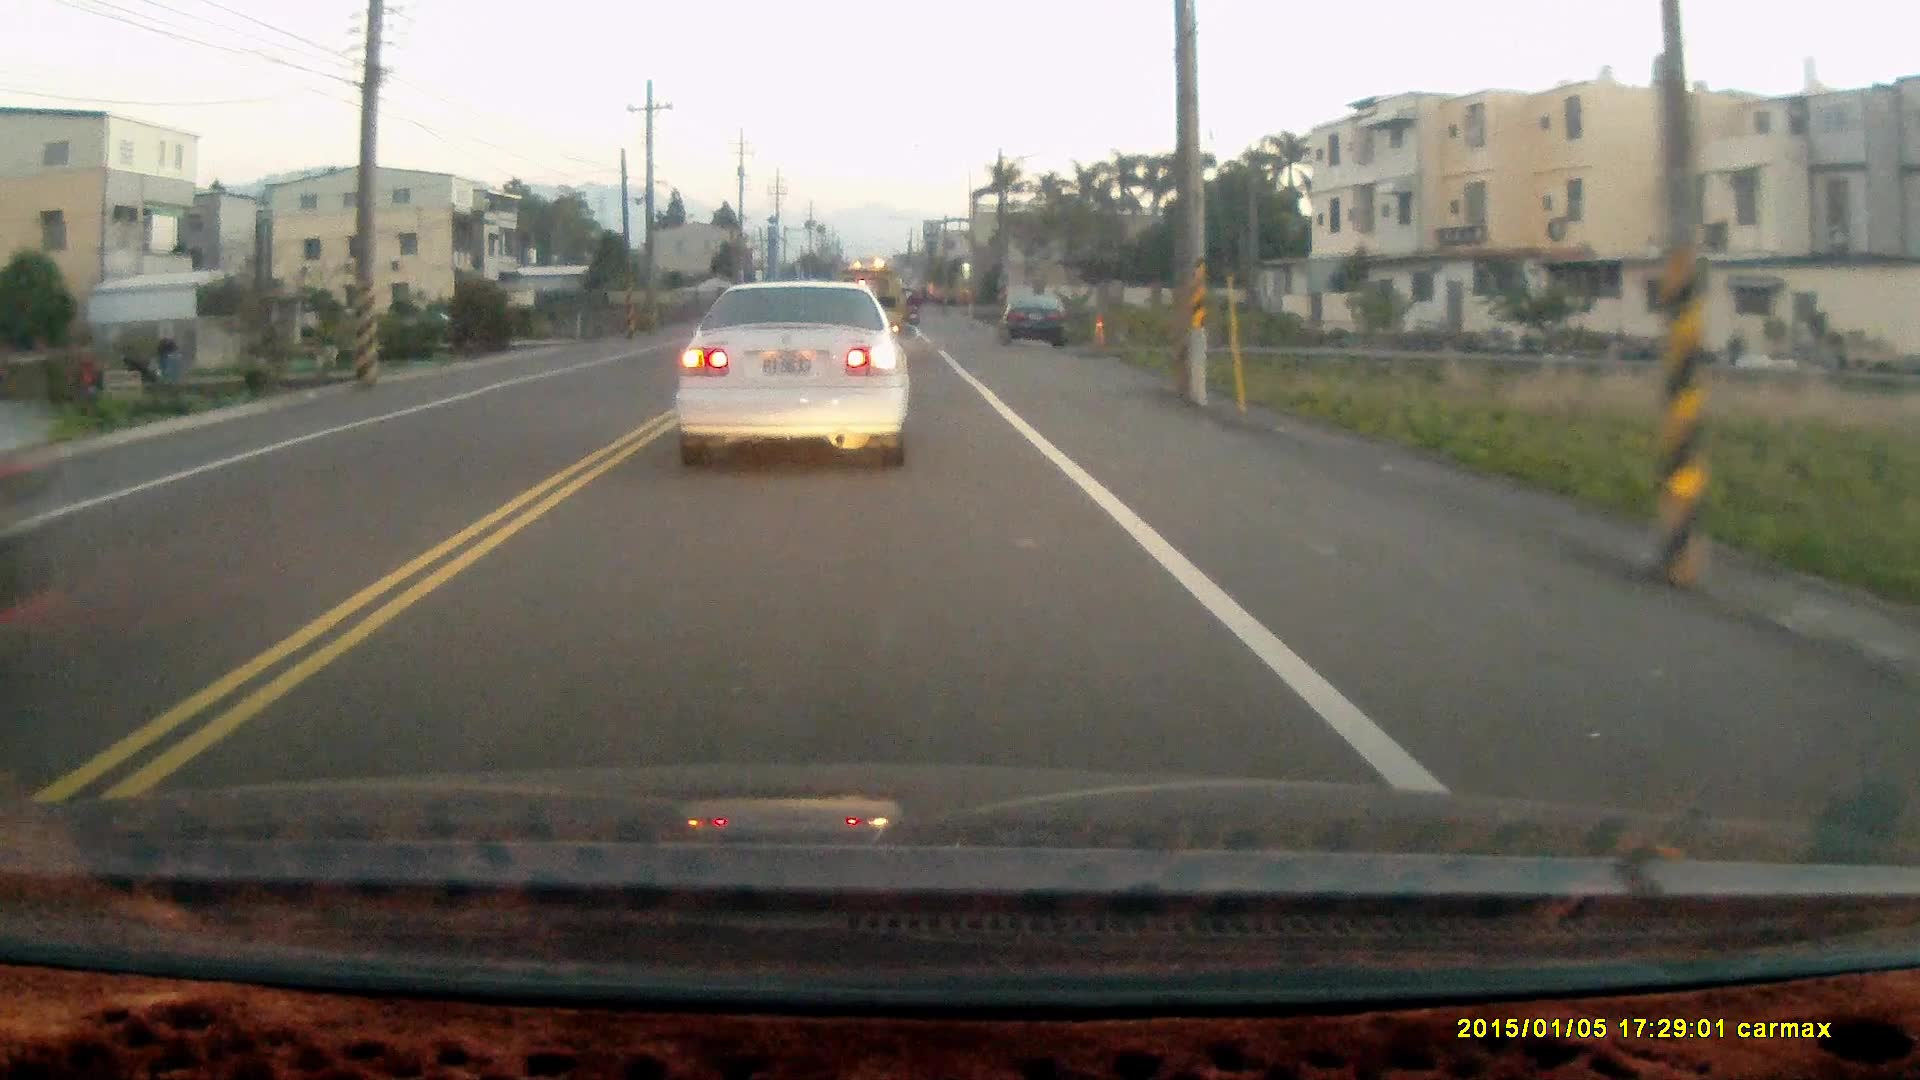pedestrian: (71, 347, 100, 405)
vehicle: (674, 279, 916, 474), (1, 395, 70, 610), (1003, 293, 1070, 349)
